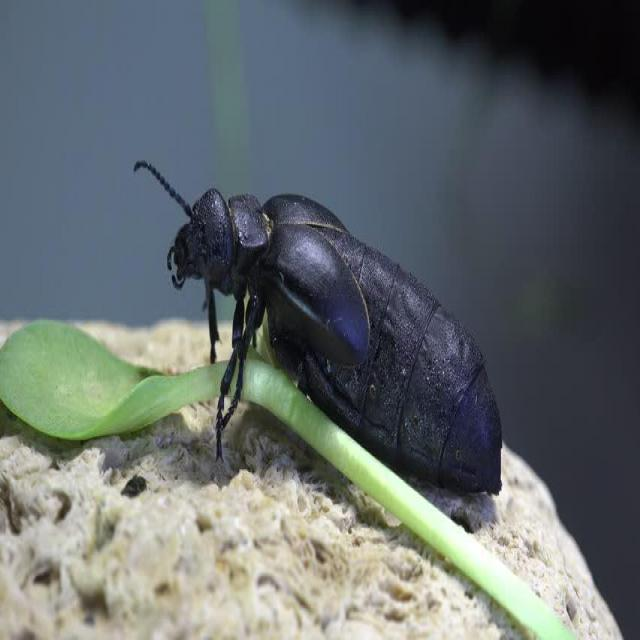BlisterBeetle-Adult-: (133, 142, 516, 512)
